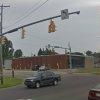Car: (18, 70, 69, 91)
